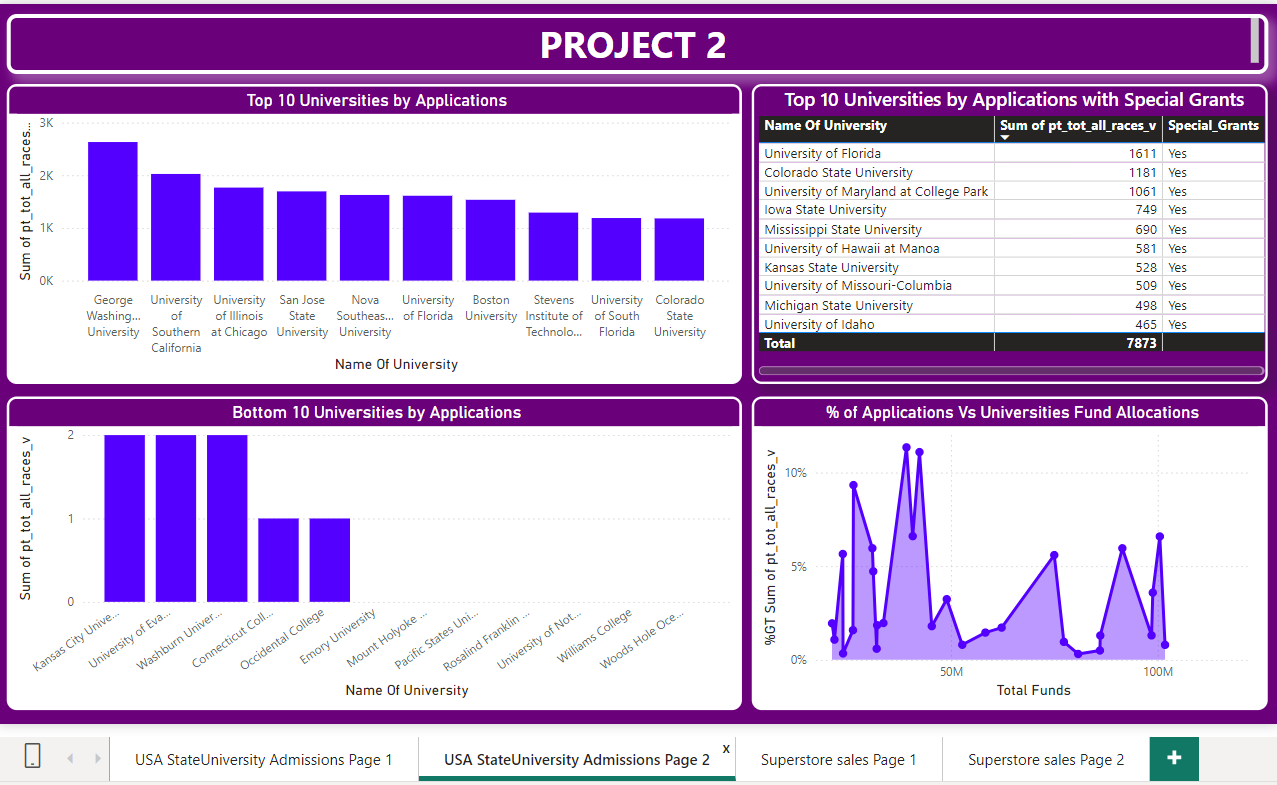

What the dashboard file says about the page in this screenshot:
{"tool":"powerbi","page":{"name":"USA StateUniversity Admissions Page 2","canvas":[1280,720],"ordinal":1},"visuals":[{"type":"textbox","box":[8.8,10,1261.2,60],"z":0},{"type":"columnChart","title":"Top 10 Universities by Applications","fields":{"Category":["university_applications.Name Of University"],"Y":["Sum(university_applications.pt_tot_all_races_v)"]},"box":[8.8,80,735,300],"z":1000},{"type":"tableEx","title":"Top 10 Universities by Applications with  Special Grants","fields":{"Values":["university_applications.Name Of University","Sum(university_applications.pt_tot_all_races_v)","university_applications.Special_Grants"]},"box":[753.8,80,516.2,300],"z":2000},{"type":"columnChart","title":"Bottom 10 Universities by Applications","fields":{"Category":["university_applications.Name Of University"],"Y":["Sum(university_applications.pt_tot_all_races_v)"]},"box":[8.8,392.5,735,313.8],"z":3000},{"type":"areaChart","title":"% of Applications Vs Universities Fund Allocations","fields":{"Category":["state_universities.Total Funds"],"Y":["Divide(Sum(university_applications.pt_tot_all_races_v), ScopedEval(Sum(university_applications.pt_tot_all_races_v), []))"]},"box":[753.8,392.5,516.2,313.8],"z":4000}]}

Visuals, with their boxes in screenshot pixels (x1, y1, x2, y2):
textbox: <box>0,7,1276,68</box>
"Top 10 Universities by Applications" columnChart: <box>0,78,749,384</box>
"Top 10 Universities by Applications with  Special Grants" tableEx: <box>759,78,1276,384</box>
"Bottom 10 Universities by Applications" columnChart: <box>0,397,749,717</box>
"% of Applications Vs Universities Fund Allocations" areaChart: <box>759,397,1276,717</box>
